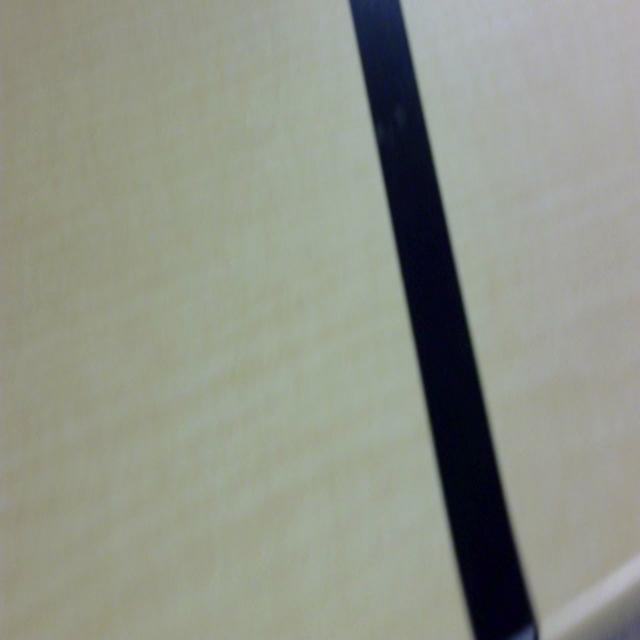tape: (334, 0, 557, 640)
